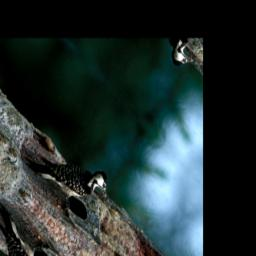Woodpecker: (23, 115, 117, 230)
